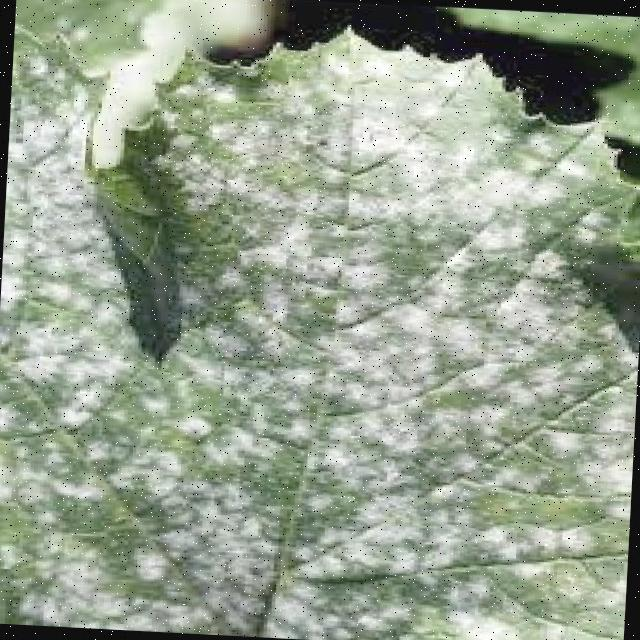Powdery_Mildew: (5, 30, 604, 638)
